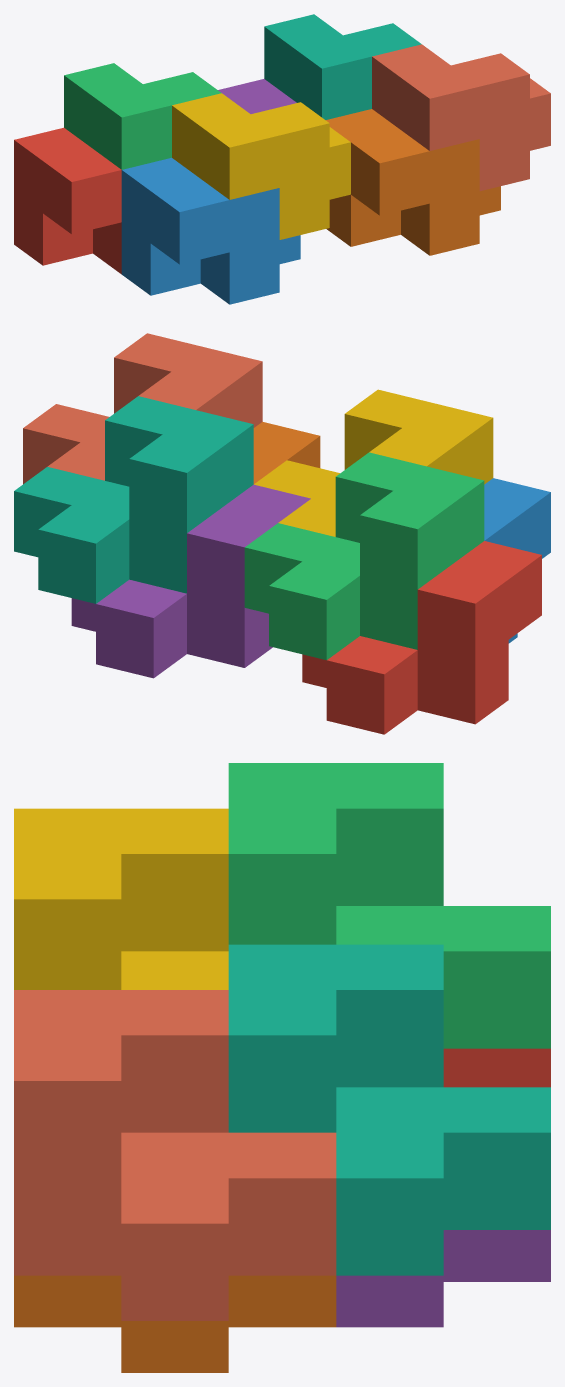
The model's file is tiling.obj.
3 renders of one model, top to bottom at view 1: azimuth 30°, elevation 25°; view 2: azimuth 150°, elevation 25°; view 3: azimuth 270°, elevation 25°, orthographic. The views are drawn at different scales.
Parts seen in each view (by area): view 1: copy_1_domain_2, copy_1_domain_8, copy_1_domain_4, copy_1_domain_6, copy_1_domain_1, copy_1_domain_3, copy_1_domain_7, copy_1_domain_5; view 2: copy_1_domain_3, copy_1_domain_7, copy_1_domain_1, copy_1_domain_5, copy_1_domain_8, copy_1_domain_4, copy_1_domain_2, copy_1_domain_6; view 3: copy_1_domain_8, copy_1_domain_7, copy_1_domain_3, copy_1_domain_4, copy_1_domain_6, copy_1_domain_5, copy_1_domain_1.
Part boxes in pixels (x1,y1,x2,y2): copy_1_domain_2: (121, 157, 300, 304); copy_1_domain_8: (372, 44, 550, 191); copy_1_domain_4: (172, 93, 350, 239); copy_1_domain_6: (326, 109, 500, 255); copy_1_domain_1: (14, 127, 121, 274); copy_1_domain_3: (64, 63, 221, 169); copy_1_domain_7: (264, 14, 421, 119); copy_1_domain_5: (218, 79, 296, 113); copy_1_domain_3: (244, 452, 484, 660); copy_1_domain_7: (14, 396, 253, 603); copy_1_domain_1: (302, 541, 541, 734); copy_1_domain_5: (71, 484, 310, 678); copy_1_domain_8: (23, 333, 262, 484); copy_1_domain_4: (254, 389, 493, 536); copy_1_domain_2: (484, 478, 550, 643); copy_1_domain_6: (253, 421, 320, 483); copy_1_domain_8: (14, 990, 336, 1320); copy_1_domain_7: (228, 944, 550, 1275); copy_1_domain_3: (228, 763, 550, 1048); copy_1_domain_4: (14, 808, 228, 989); copy_1_domain_6: (14, 1275, 336, 1372); copy_1_domain_5: (336, 1230, 550, 1327); copy_1_domain_1: (443, 1048, 550, 1087).
Bounding box in the file's own units: 9 × 3 × 5.
